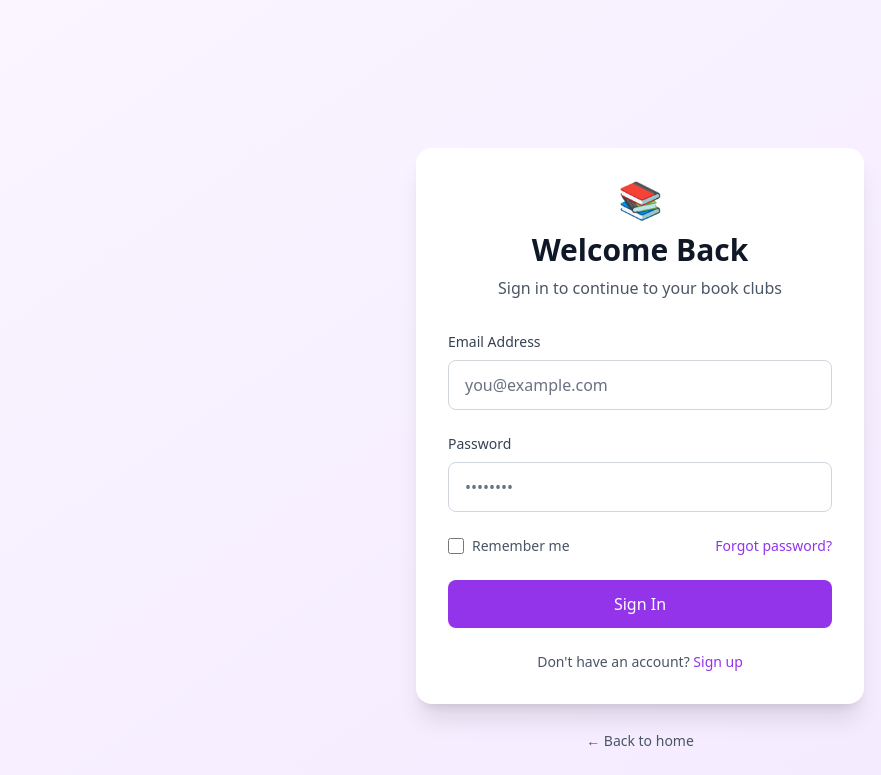
Scenario: LoginPage › shows validation error for short password
In the field labelled "Email Address": (640, 385) [448,360,832,410], type "test@example.com"
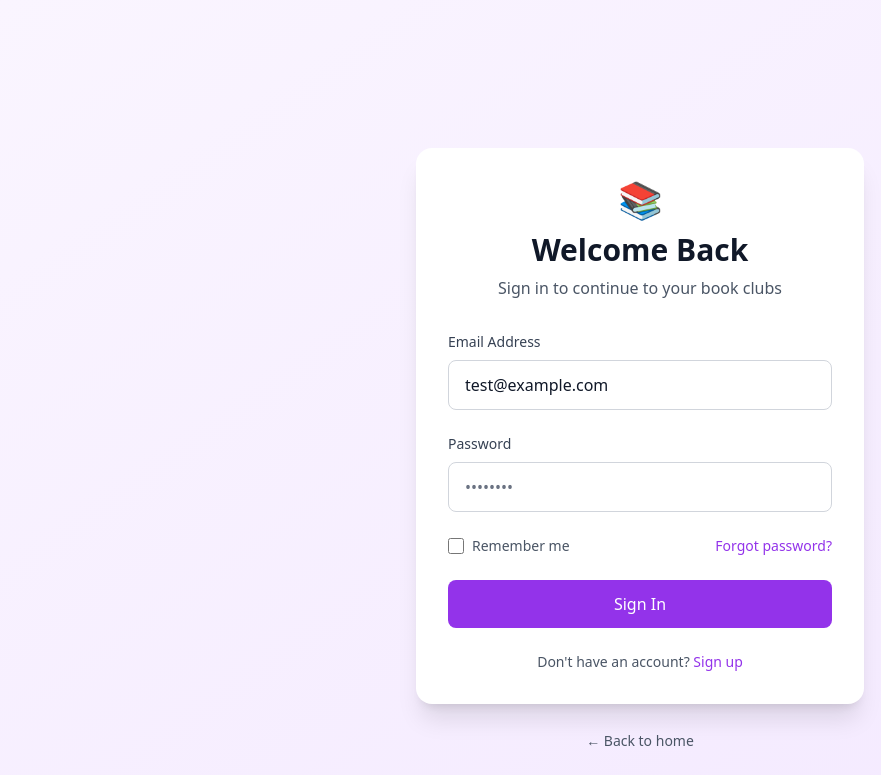
In the password field labelled "Password": (640, 487) [448,462,832,512], type "12345"
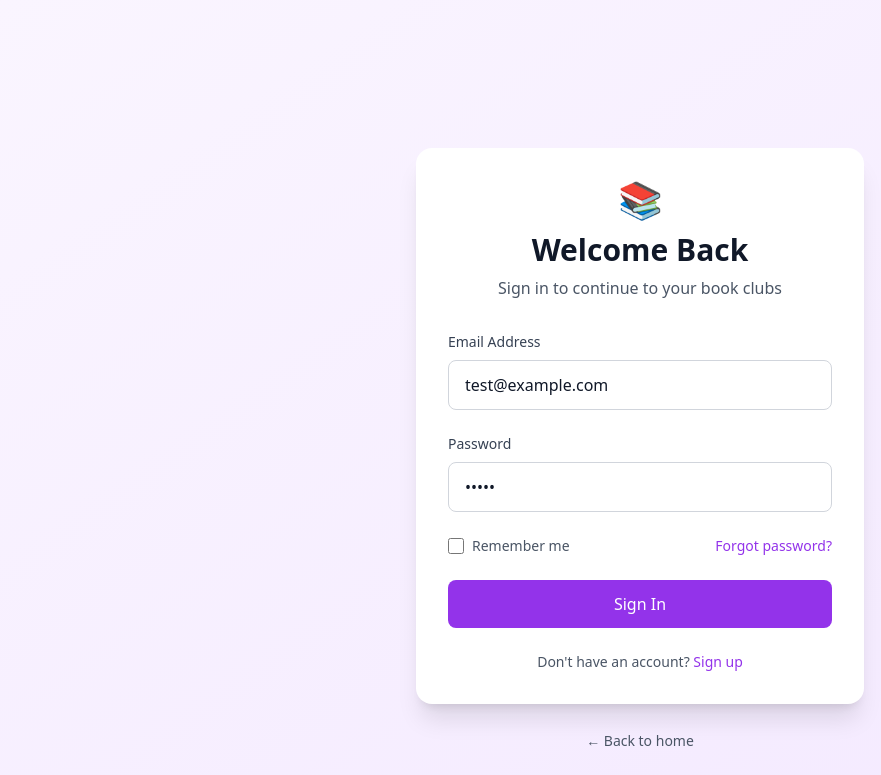
Submit the form, box [448,332,832,628]
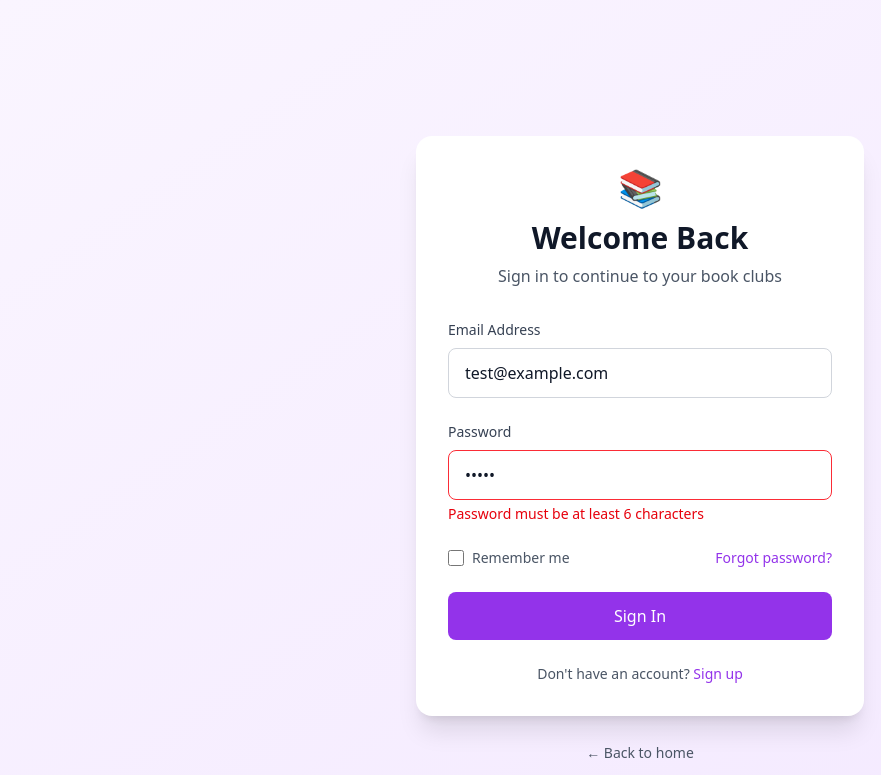
Result: the text "Password must be at least 6 characters" is shown at [448,504,704,523]
